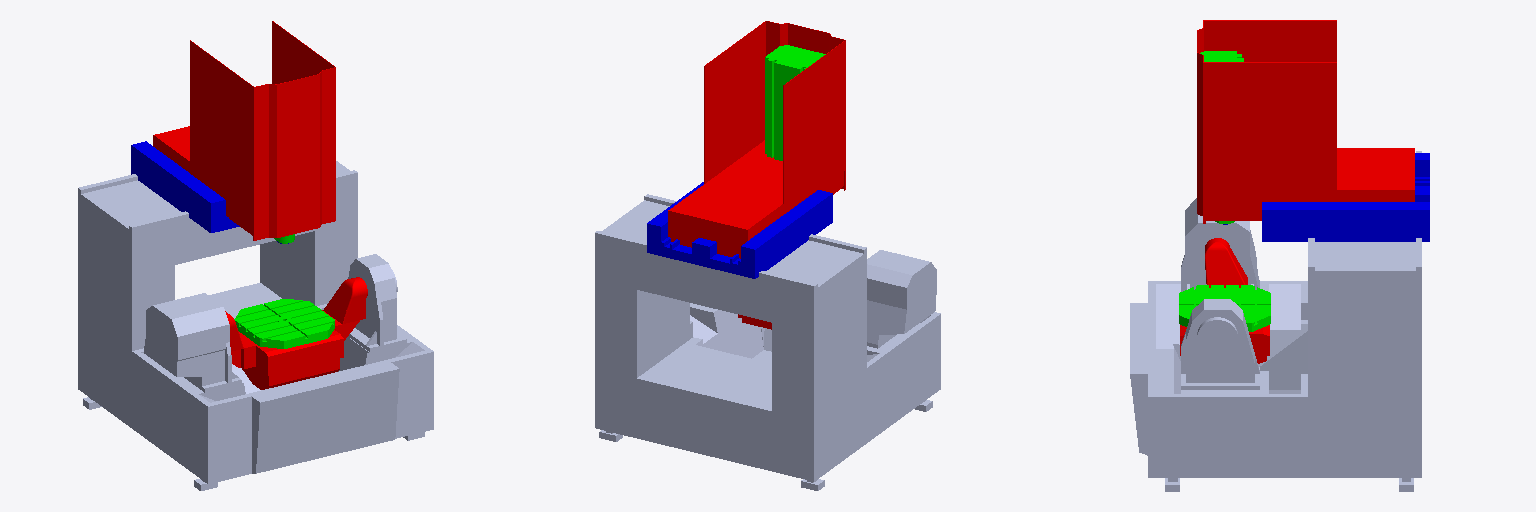
robot.urdf — tuopu:
 <robot name="tuopu">
	<link name="link_base">
		<visual>
		  <origin xyz="0. 0. 0." rpy="0. 0. 0." />
		  <geometry>
			<mesh filename="Geometry/A_TABLE_SURPORT.obj" scale="0.001 0.001 0.001" />
		  </geometry>
		  <material
			name="color0">
			<color rgba="0.792156862745098 0.819607843137255 0.933333333333333 0.8" />
		  </material>
		</visual>
		<collision>
          <origin rpy="0 0 0" xyz="0 0 0"/>
          <geometry>
            <mesh filename="Geometry/A_TABLE_SURPORT_vhacd.obj" scale="0.001 0.001 0.001" />
          </geometry>
        </collision>

		<visual>
		  <origin xyz="0. 0. 0." rpy="0. 0. 0." />
		  <geometry>
			<mesh filename="Geometry/BED.obj" scale="0.001 0.001 0.001" />
		  </geometry>
		  <material
			name="color0">
			<color rgba="0.792156862745098 0.819607843137255 0.933333333333333 0.8" />
		  </material>
		</visual>
		<collision>
          <origin rpy="0 0 0" xyz="0 0 0"/>
          <geometry>
            <mesh filename="Geometry/BED_vhacd.obj" scale="0.001 0.001 0.001" />
          </geometry>
        </collision>
    </link>

	<link name="link_X_axis">
		<visual>
		  <origin xyz="0. 0. 0." rpy="0. 0. 0." />
		  <geometry>
			<mesh filename="Geometry/X_AXIS.obj" scale="0.001 0.001 0.001" />
		  </geometry>
		  <material
			name="color3">
			<color rgba="0 0 1 0.8" />
		  </material>
		</visual>
		<collision>
          <origin xyz="0. 0. 0." rpy="0. 0. 0." />
          <geometry>
            <mesh filename="Geometry/X_AXIS_vhacd.obj" scale="0.001 0.001 0.001" />
          </geometry>
        </collision>
    </link>


	<joint name="machine_X" type="prismatic">
        <axis xyz="1 0 0"/>
        <parent link="link_base"/>
        <child link="link_X_axis"/>
        <origin rpy="0. 0. 0." xyz="0. 0. 0."/>
        <limit lower="-1.00" upper="1.00" effort="0" velocity="0" />
    </joint>

	<link name="link_Y_axis">
		<visual>
		  <origin xyz="0. 0. 0." rpy="0. 0. 0." />
		  <geometry>
			<mesh filename="Geometry/Y_Axis.obj" scale="0.001 0.001 0.001" />
		  </geometry>
		  <material
			name="color1">
		  </material>
		</visual>
		<collision>
          <origin xyz="0. 0. 0." rpy="0. 0. 0." />
          <geometry>
            <mesh filename="Geometry/Y_Axis_vhacd.obj" scale="0.001 0.001 0.001" />
          </geometry>
        </collision>
    </link>

	<joint name="machine_Y" type="prismatic">
        <axis xyz="0 1 0"/>
        <parent link="link_X_axis"/>
        <child link="link_Y_axis"/>
        <origin rpy="0. 0. 0." xyz="0. 0. 0."/>
        <limit lower="-1.00" upper="1.00" effort="0" velocity="0" />
    </joint>

	<link name="link_Z_axis">
		<visual>
		  <origin xyz="0. 0. 0." rpy="0. 0. 0." />
		  <geometry>
			<mesh filename="Geometry/Z_Axis.obj" scale="0.001 0.001 0.001" />
		  </geometry>
		  <material
			name="color2">
		  </material>
		</visual>
		<collision>
          <origin xyz="0. 0. 0." rpy="0. 0. 0." />
          <geometry>
            <mesh filename="Geometry/Z_Axis_vhacd.obj" scale="0.001 0.001 0.001" />
          </geometry>
        </collision>
    </link>

	<joint name="machine_Z" type="prismatic">
        <axis xyz="0 0 1"/>
        <parent link="link_Y_axis"/>
        <child link="link_Z_axis"/>
        <origin rpy="0. 0. 0." xyz="0. 0. 0."/>
        <limit lower="-1.00" upper="1.00" effort="0" velocity="0" />
    </joint>

	<link name="link_A_axis">
		<visual>
		  <origin xyz="0. +0.05 -.128" rpy="0. 0. 0." />
		  <geometry>
			<mesh filename="Geometry/A_TABLE.obj" scale="0.001 0.001 0.001" />
		  </geometry>
		  <material
			name="color1">
			<color rgba="1 0 0 0.8" />
		  </material>
		</visual>
		<collision>
          <origin xyz="0. +0.05 -.128" rpy="0. 0. 0." />
          <geometry>
            <mesh filename="Geometry/A_TABLE_vhacd.obj" scale="0.001 0.001 0.001" />
          </geometry>
        </collision>
    </link>

	<joint name="machine_A" type="revolute">
        <axis xyz="1 0 0"/>
        <parent link="link_base"/>
        <child link="link_A_axis"/>
        <origin rpy="0. 0. 0." xyz="0. -.05 .128"/>
        <limit lower="-3.14" upper="3.14" effort="0" velocity="0" />
    </joint>


    <link name="link_C_axis">
		<visual>
		  <origin xyz="0. 0. 0." rpy="0. 0. 0." />
		  <geometry>
			<mesh filename="Geometry/C_TABLE.obj" scale="0.001 0.001 0.001" />
		  </geometry>
		  <material
			name="color2">
			<color rgba="0 1 0 0.8" />
		  </material>
		</visual>
		<collision>
          <origin xyz="0. 0. 0." rpy="0. 0. 0." />
          <geometry>
            <mesh filename="Geometry/C_TABLE_vhacd.obj" scale="0.001 0.001 0.001" />
          </geometry>
        </collision>
    </link>

	<joint name="machine_C" type="revolute">
        <axis xyz="0 0 1"/>
        <parent link="link_A_axis"/>
        <child link="link_C_axis"/>
        <origin rpy="0. 0. 0." xyz="0. +.05 -.128"/>
        <limit lower="-3.14" upper="3.14" effort="0" velocity="0" />
    </joint>

	<link name="link_S_axis">
		<visual>
		  <origin xyz="0. 0. 0." rpy="0. 0. 0." />
		  <geometry>
			<mesh filename="Geometry/Spindle.obj" scale="0.001 0.001 0.001" />
		  </geometry>
		  <material
			name="color3">
		  </material>
		</visual>
		<collision>
          <origin xyz="0. 0. 0." rpy="0. 0. 0." />
          <geometry>
            <mesh filename="Geometry/Spindle_vhacd.obj" scale="0.001 0.001 0.001" />
          </geometry>
        </collision>
    </link>

	<joint name="machine_S" type="continuous">
        <axis xyz="0 0 1"/>
        <parent link="link_Z_axis"/>
        <child link="link_S_axis"/>
        <origin rpy="0. 0. 0." xyz="0. 0. 0."/>
        <limit effort="0" velocity="0" />
    </joint>
</robot>

--- Render facts (derived) ---
The picture shows the robot from 3 angles, left to right: view 1: azimuth 30°, elevation 25°; view 2: azimuth 150°, elevation 25°; view 3: azimuth 270°, elevation 25°; orthographic projection.
Model tuopu with 7 links and 6 joints (2 revolute, 1 continuous, 3 prismatic), rooted at link_base, posed every joint at zero.
Links seen in each view (by area): view 1: link_base, link_Y_axis, link_A_axis, link_X_axis, link_C_axis; view 2: link_base, link_Y_axis, link_X_axis, link_Z_axis; view 3: link_base, link_Y_axis, link_X_axis, link_C_axis, link_A_axis.
Boxes of the visible links, x1,y1,x2,y2 form: link_base: (78, 161, 433, 490); link_Y_axis: (153, 21, 335, 240); link_A_axis: (225, 277, 367, 389); link_X_axis: (131, 141, 239, 232); link_C_axis: (234, 299, 334, 348); link_base: (595, 194, 940, 490); link_Y_axis: (668, 21, 845, 258); link_X_axis: (647, 182, 832, 278); link_Z_axis: (765, 45, 825, 160); link_base: (1130, 151, 1421, 491); link_Y_axis: (1197, 20, 1414, 223); link_X_axis: (1262, 153, 1429, 241); link_C_axis: (1179, 285, 1270, 331); link_A_axis: (1180, 238, 1269, 363).
Size in the robot's own frame: 1.91 by 1.97 by 2.84 metres.
8 mesh visuals loaded from 8 distinct referenced files (8 OBJ).
